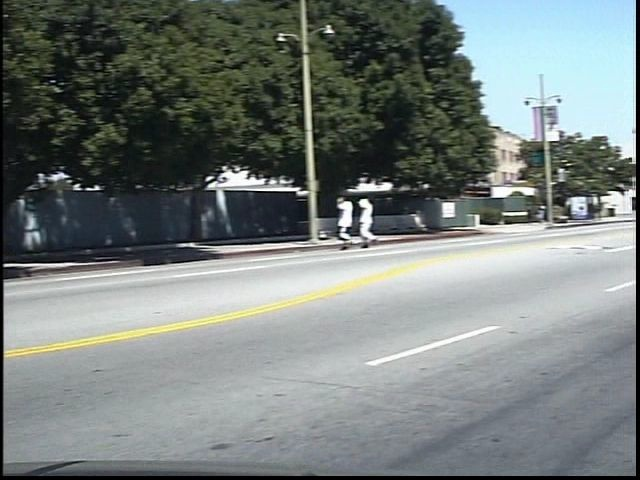person: (351, 192, 376, 255), (374, 194, 400, 254)
